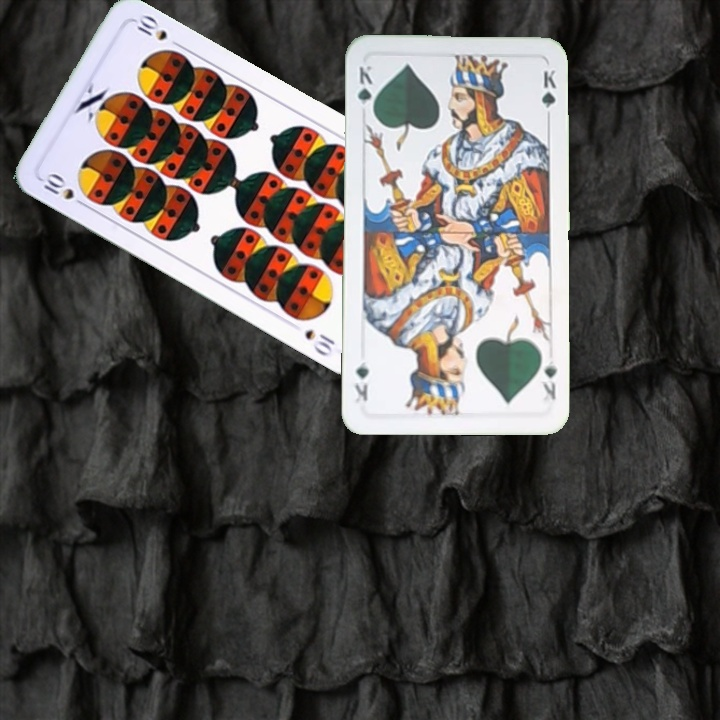GK: (353, 61, 376, 118), (537, 357, 560, 403)
S10: (39, 169, 90, 211)
